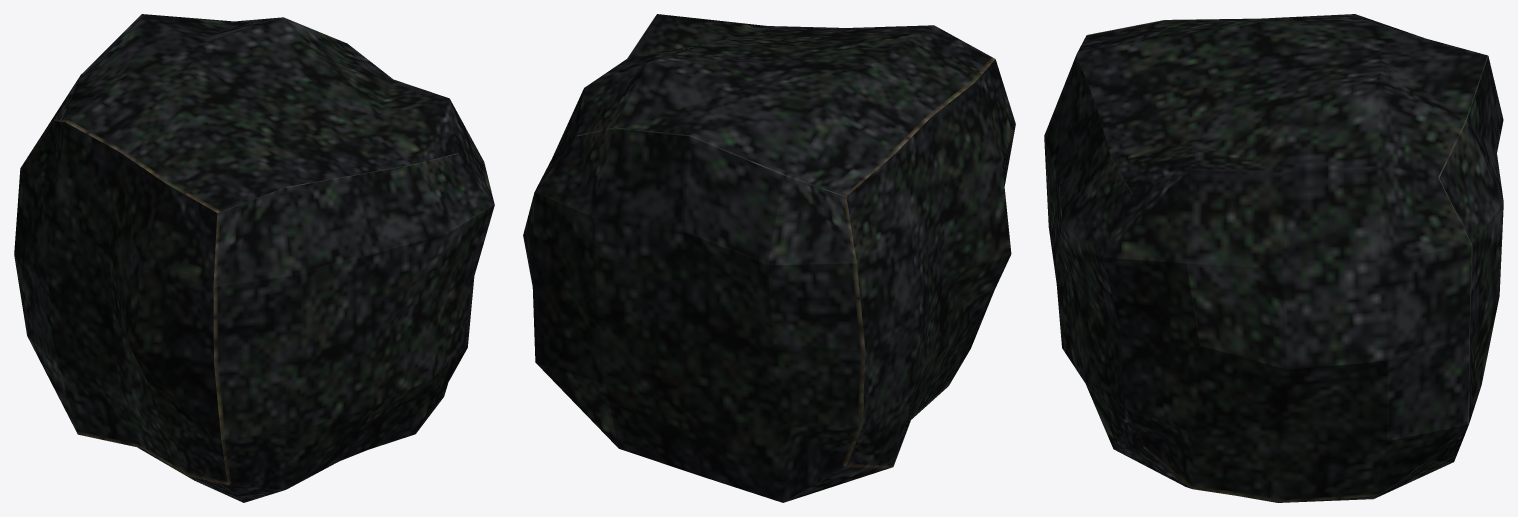
File: SM_EC_Rock_76.fbx
3 views of the same model, side by side, from view 1: azimuth 30°, elevation 25°; view 2: azimuth 150°, elevation 25°; view 3: azimuth 270°, elevation 25° (orthographic). The views are drawn at different scales.
Visible parts, largest first — view 1: SM_EC_Rock_76; view 2: SM_EC_Rock_76; view 3: SM_EC_Rock_76.
Boxes of the visible parts, x1,y1,x2,y2 form: SM_EC_Rock_76: (14,14,494,502); SM_EC_Rock_76: (523,14,1015,502); SM_EC_Rock_76: (1044,14,1503,502).
Size of the model in its own units: 1.17 by 1.1 by 1.13.
